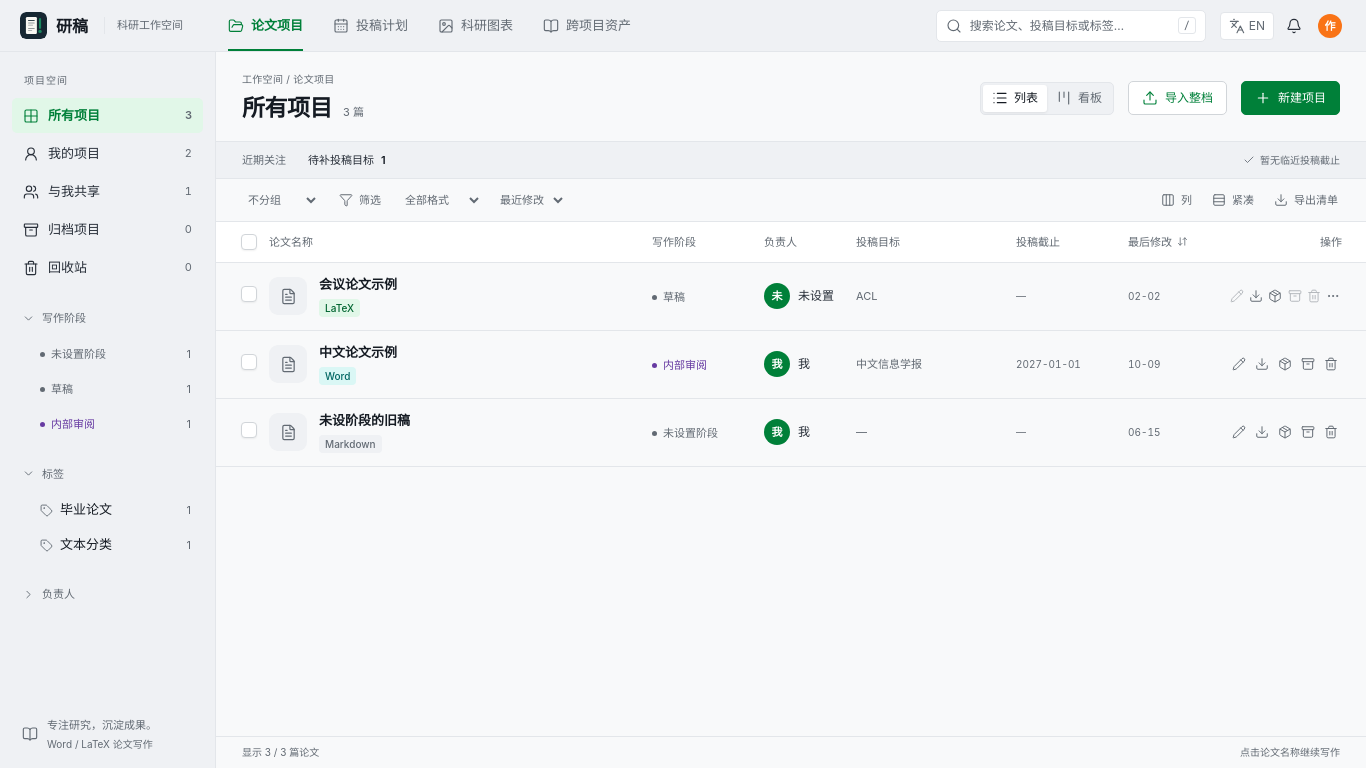
Test: 使用独立论文阶段，筛选与看板不会恢复旧状态
Expected: the row with test id "paper-project-old-paper" shows "未设置阶段", [663, 426, 718, 440]
Click the button "筛选". click: [360, 200]
box: [333, 186, 387, 214]
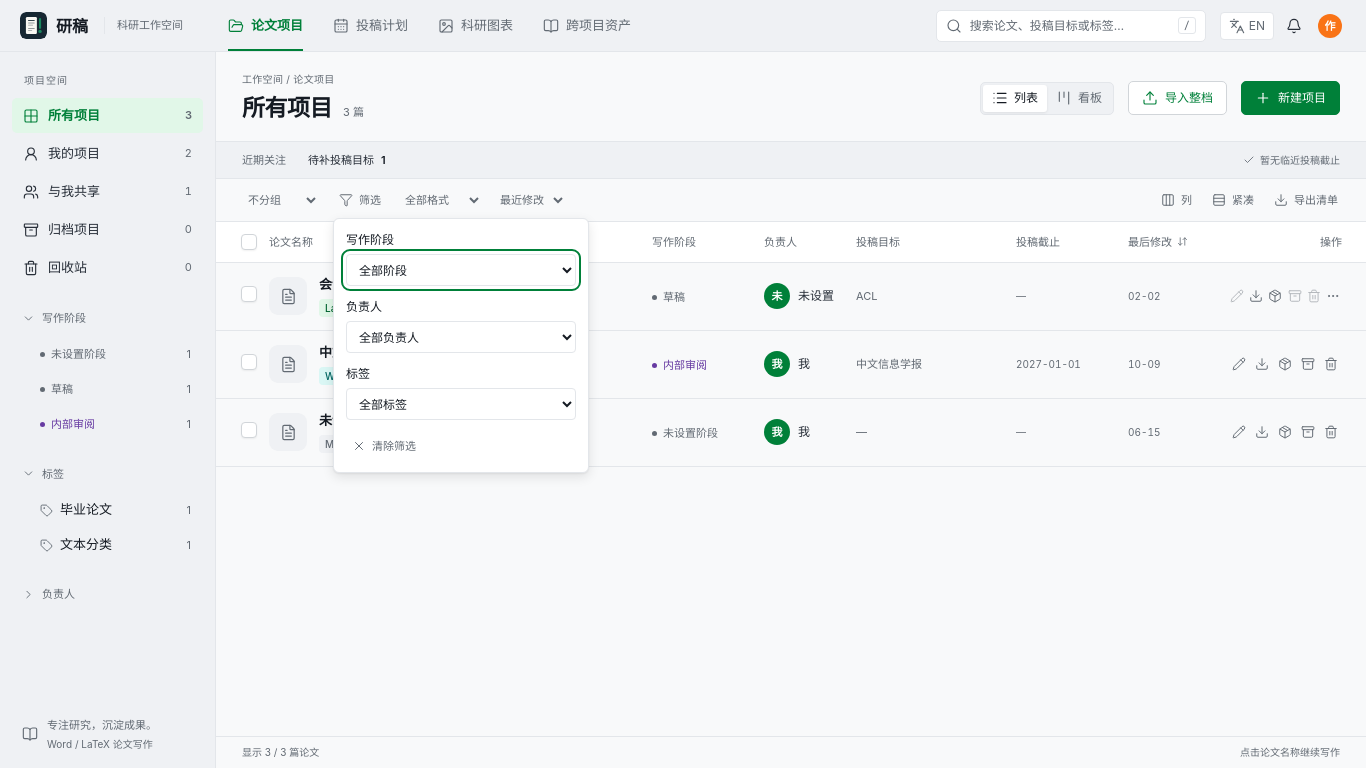
Select "内部审阅" in the dropdown labelled "写作阶段". click: [461, 270]
box: [346, 254, 576, 286]
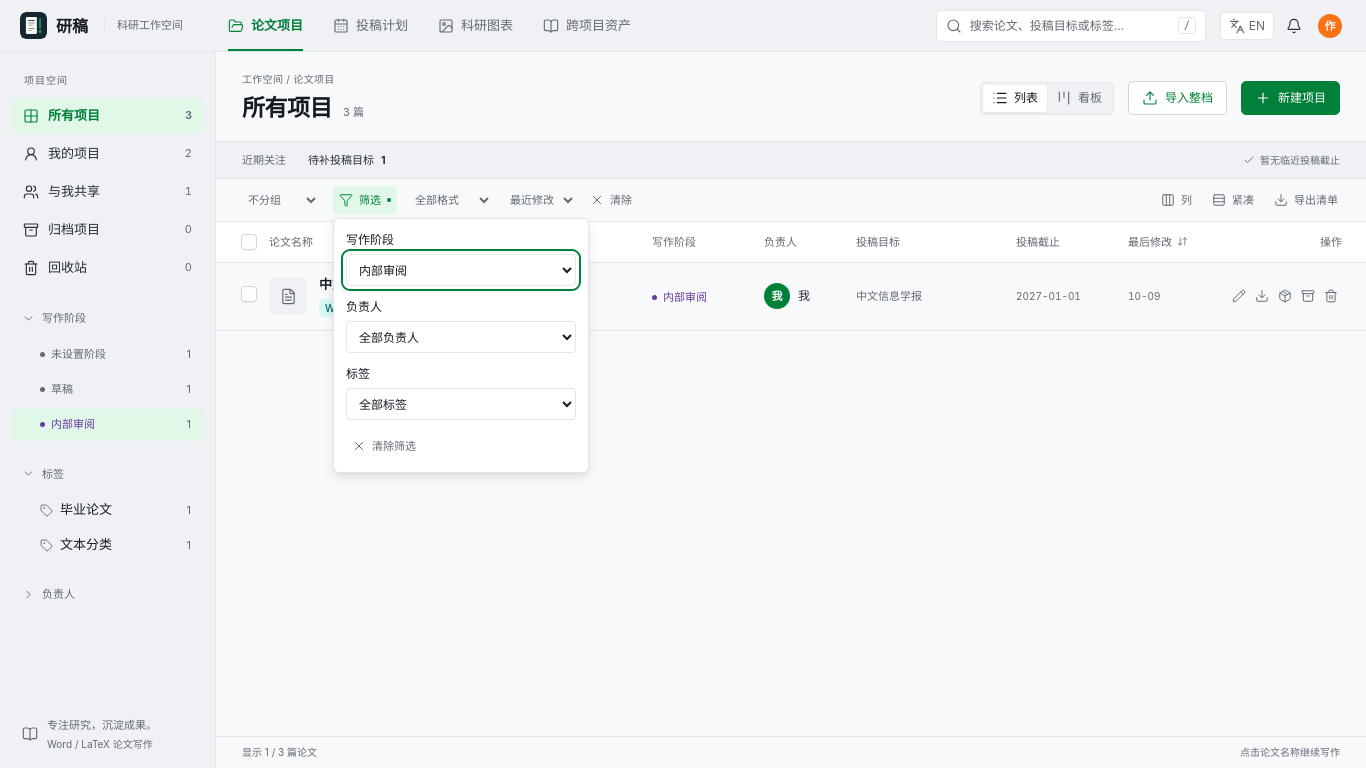
Expected: the button "清除筛选" is shown
Click the button "清除筛选". click: [461, 446]
box: [346, 432, 576, 460]
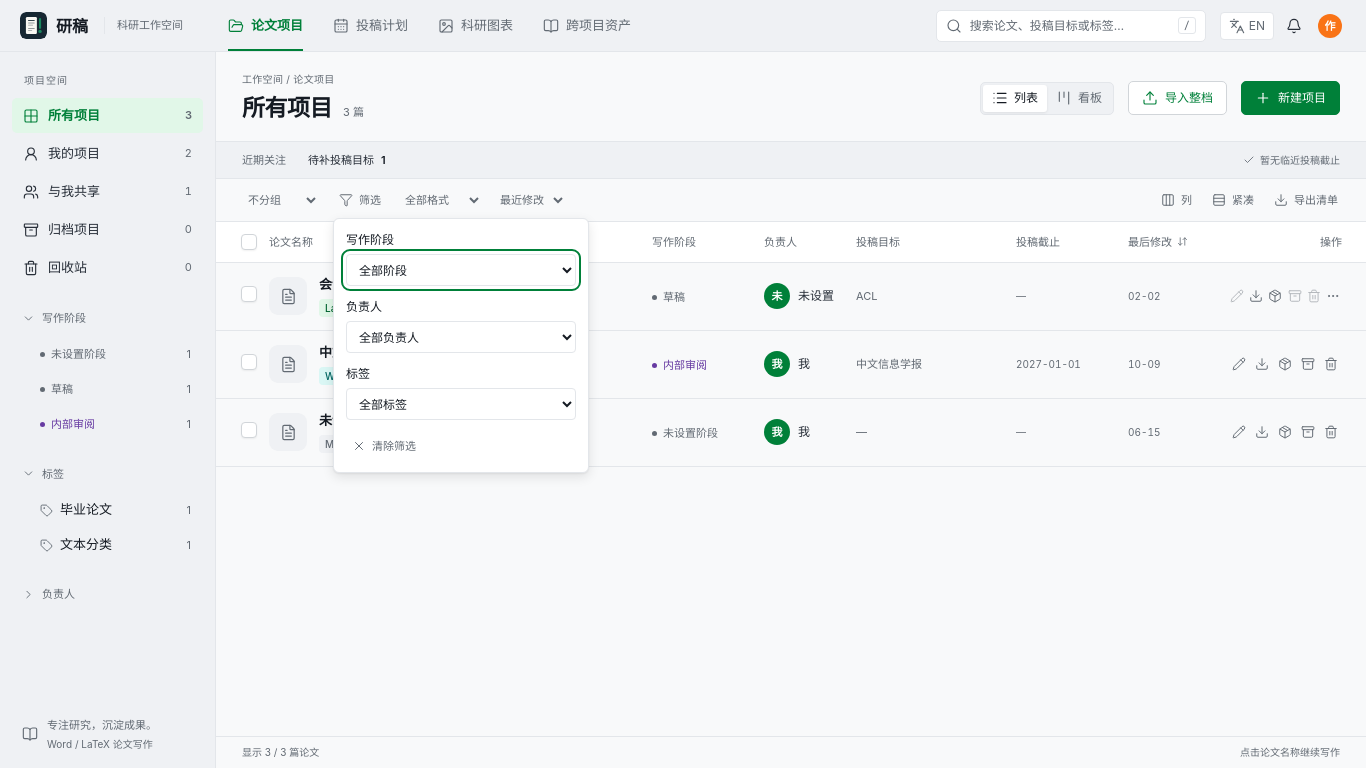
Click the button "看板". click: [1079, 98]
box: [1047, 85, 1111, 112]
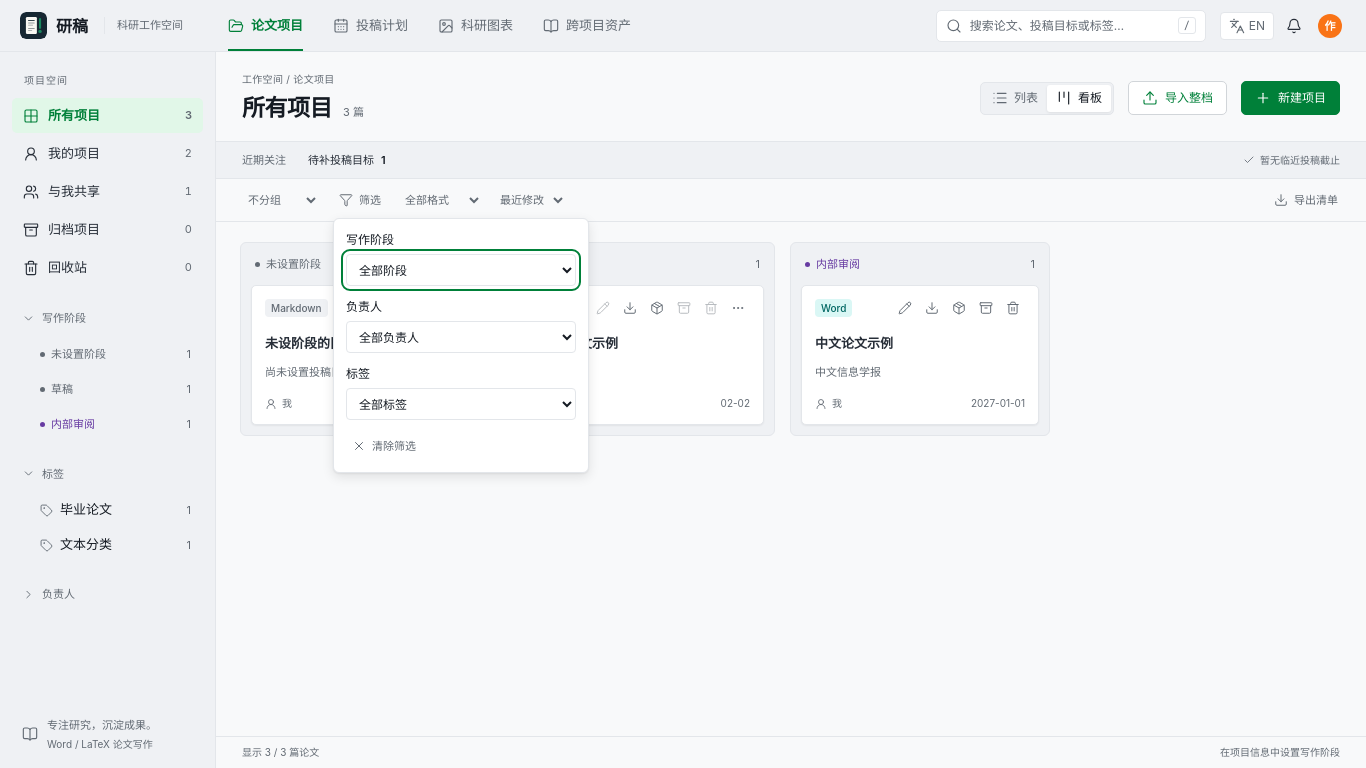
Expected: the element named "论文阶段看板" is shown, [240, 242, 1050, 436]
Expected: the element named "论文阶段看板" shows "内部审阅", [816, 257, 860, 271]
